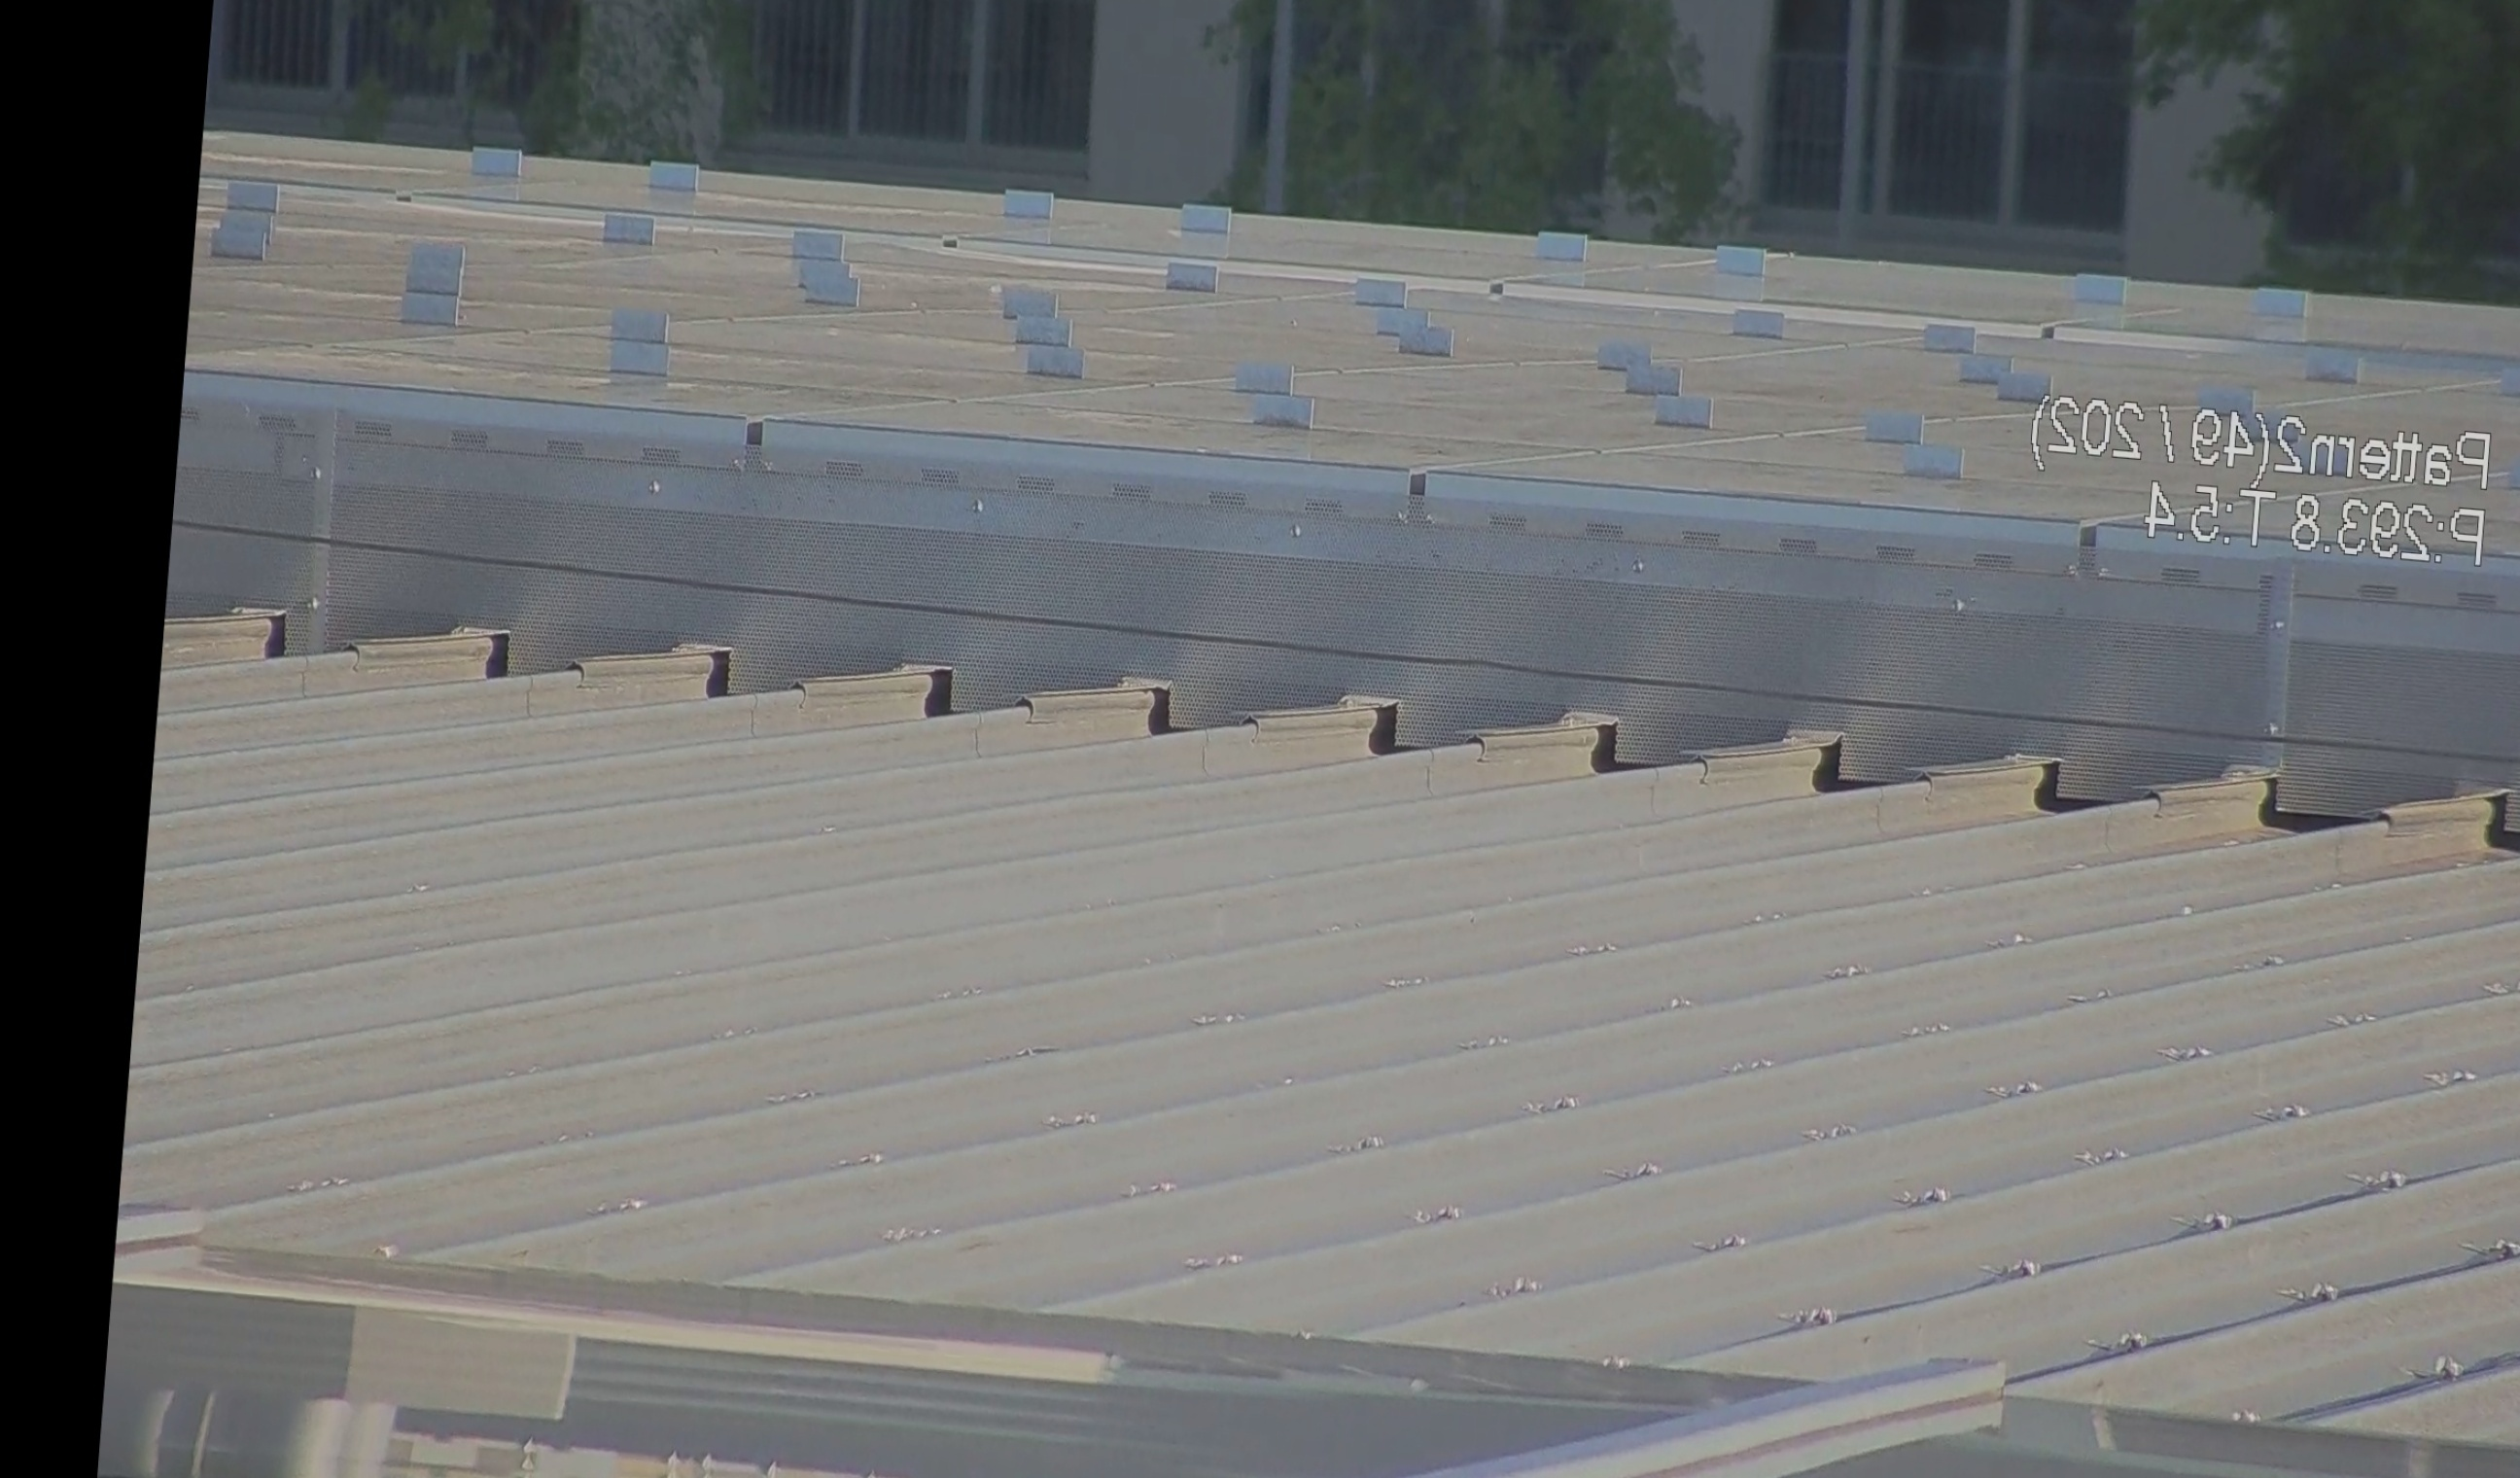Other: (1817, 723, 1868, 795)
